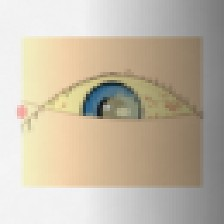corneal_ulcer: (91, 88, 151, 136)
